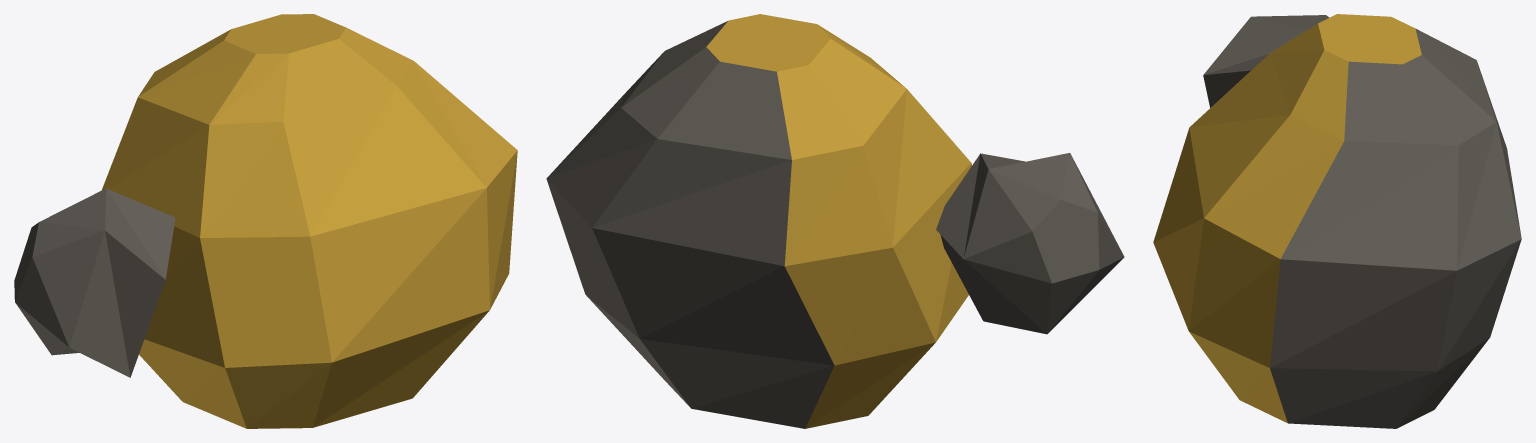
File: raw_gold.gltf
The picture shows the model from 3 angles, left to right: view 1: azimuth 30°, elevation 25°; view 2: azimuth 150°, elevation 25°; view 3: azimuth 270°, elevation 25°; orthographic projection.
Parts seen in each view (by area): view 1: raw_gold; view 2: raw_gold; view 3: raw_gold.
Part boxes in pixels (<box>): raw_gold: <box>14,14,517,428</box>; raw_gold: <box>546,14,1124,428</box>; raw_gold: <box>1153,14,1521,428</box>.
Bounding box in the file's own units: 0.259 × 0.1806 × 0.1703.
